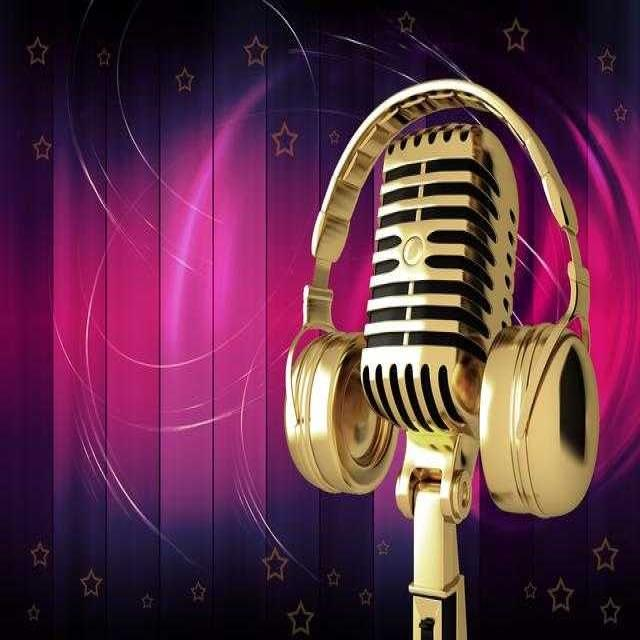microphone: (364, 125, 509, 435)
